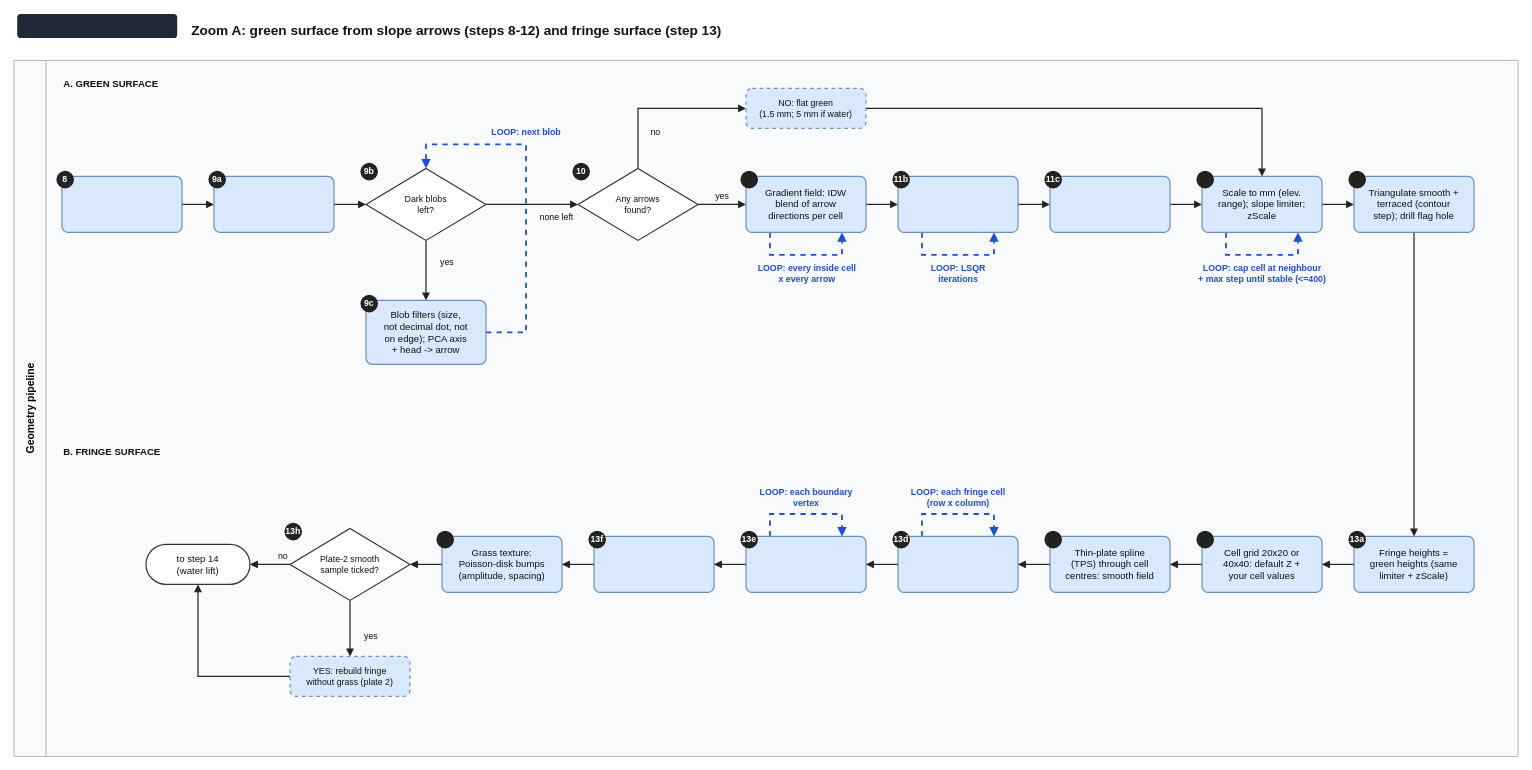
This 1532x770 diagram has some shape labels left out. The box of each missing label's shape, as (x1, y1, x2, y2) in pixels:
11a: (740, 170, 758, 188)
12a: (1196, 170, 1214, 188)
12b: (1348, 170, 1366, 188)
13b: (1196, 530, 1214, 548)
13c: (1044, 530, 1062, 548)
13g: (436, 530, 454, 548)
Boundary Editor v6.31: (17, 14, 177, 38)
Dark-pixel mask inside green (HSV: near-black or navy): (213, 175, 334, 233)
Height Z: sparse least-squares (LSQR) so that grad Z = G: (897, 175, 1018, 233)
Load EGM + heat- map PNG; spline green boundary: (61, 175, 182, 233)
Reseat edges to green / bunker / water outlines (spatial index): (745, 535, 866, 593)
Sample 200 x 200 fringe grid; median + spike filters: (897, 535, 1018, 593)
Soften: clip peaks and valleys against local window: (1049, 175, 1170, 233)
Triangulate (earcut), carve holes, drop islands, watertight: (593, 535, 714, 593)
